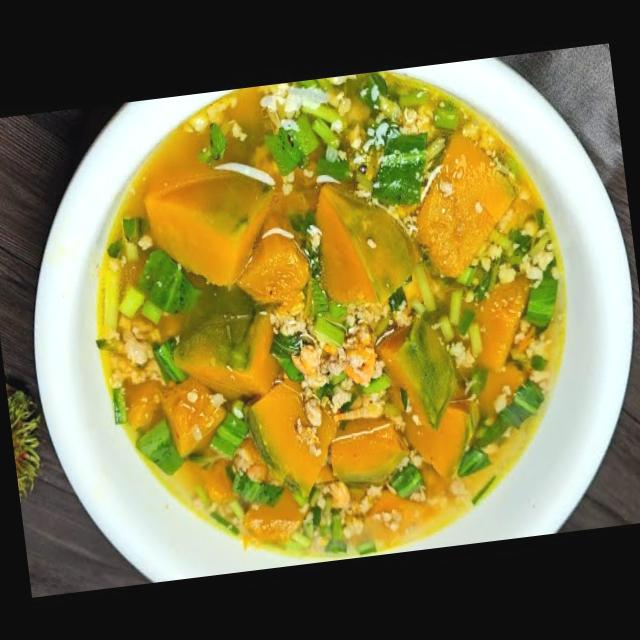canh bi do: (95, 72, 564, 558)
